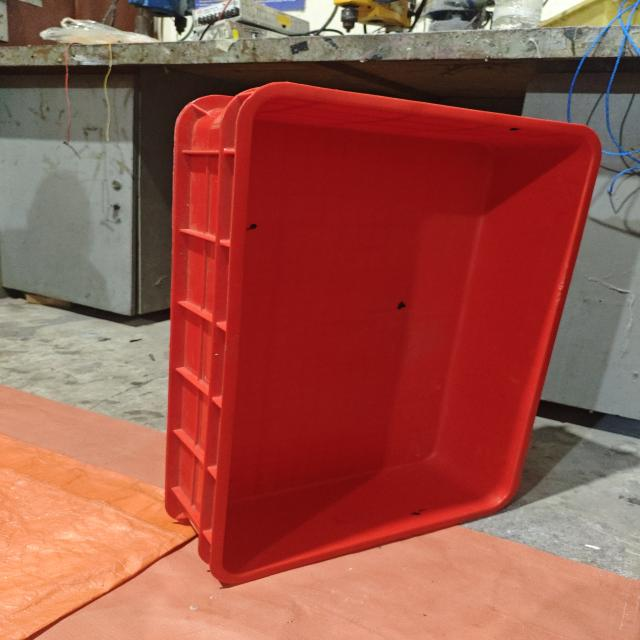red plastic box: (164, 82, 602, 587)
